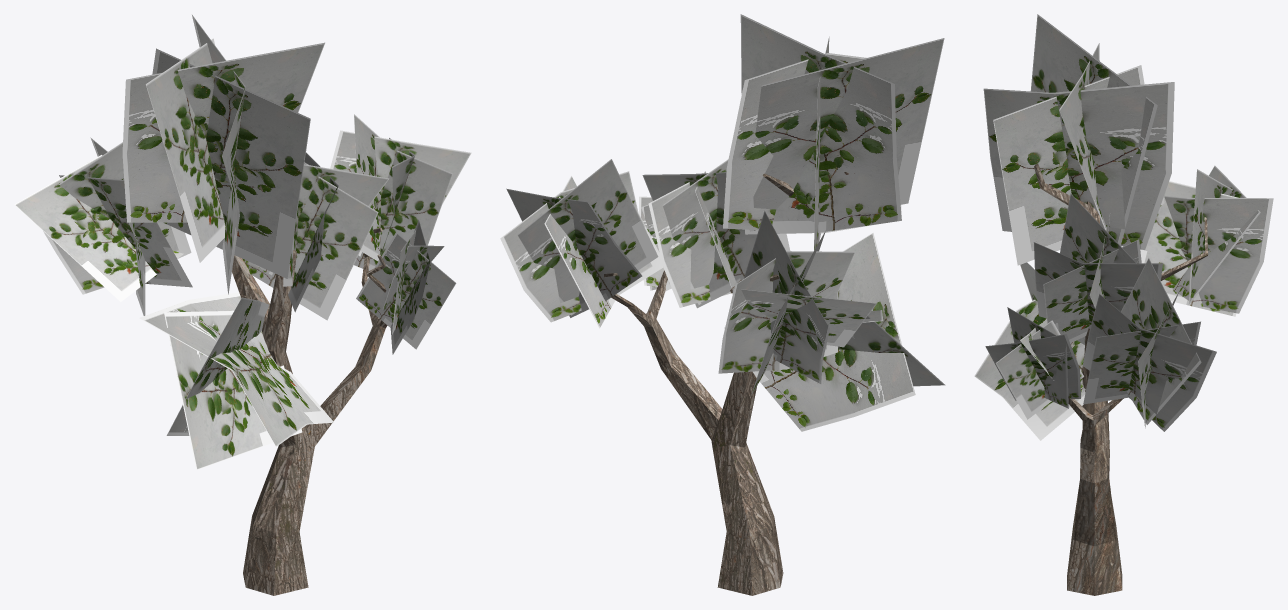
File: tree2childs.glb
3 renders of one model, left to right at view 1: azimuth 30°, elevation 25°; view 2: azimuth 150°, elevation 25°; view 3: azimuth 270°, elevation 25°, orthographic. The views are drawn at different scales.
Parts seen in each view (by area): view 1: Plane.001, Tree.001; view 2: Plane.001, Tree.001; view 3: Plane.001, Tree.001.
Boxes of the visible parts, left/top/right/bottom form: Plane.001: left=14, top=15, right=471, bottom=469; Tree.001: left=232, top=185, right=387, bottom=595; Plane.001: left=500, top=14, right=945, bottom=431; Tree.001: left=604, top=172, right=849, bottom=595; Plane.001: left=974, top=14, right=1273, bottom=440; Tree.001: left=1034, top=164, right=1208, bottom=595.
Size of the model in its own units: 15.42 by 19.89 by 10.83.
Materials: 2 (2 with a texture image).
